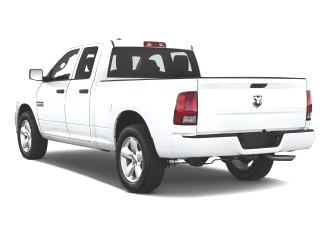ram: (249, 92, 265, 111)
